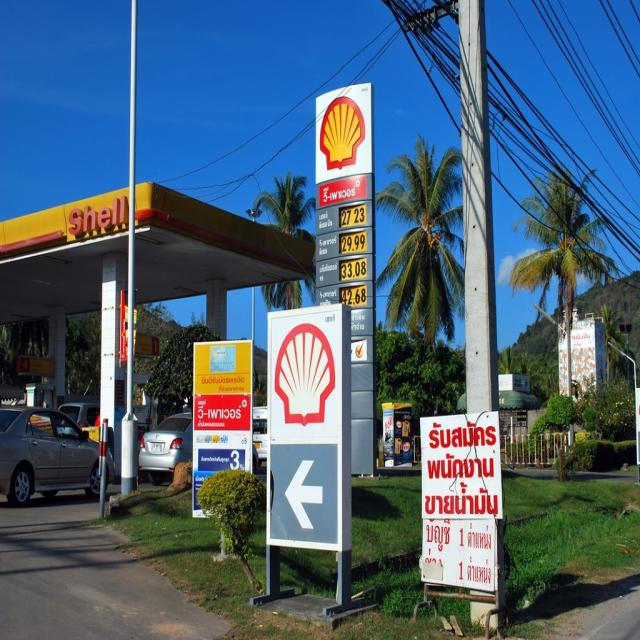shell: (274, 323, 337, 427), (318, 95, 366, 172)
